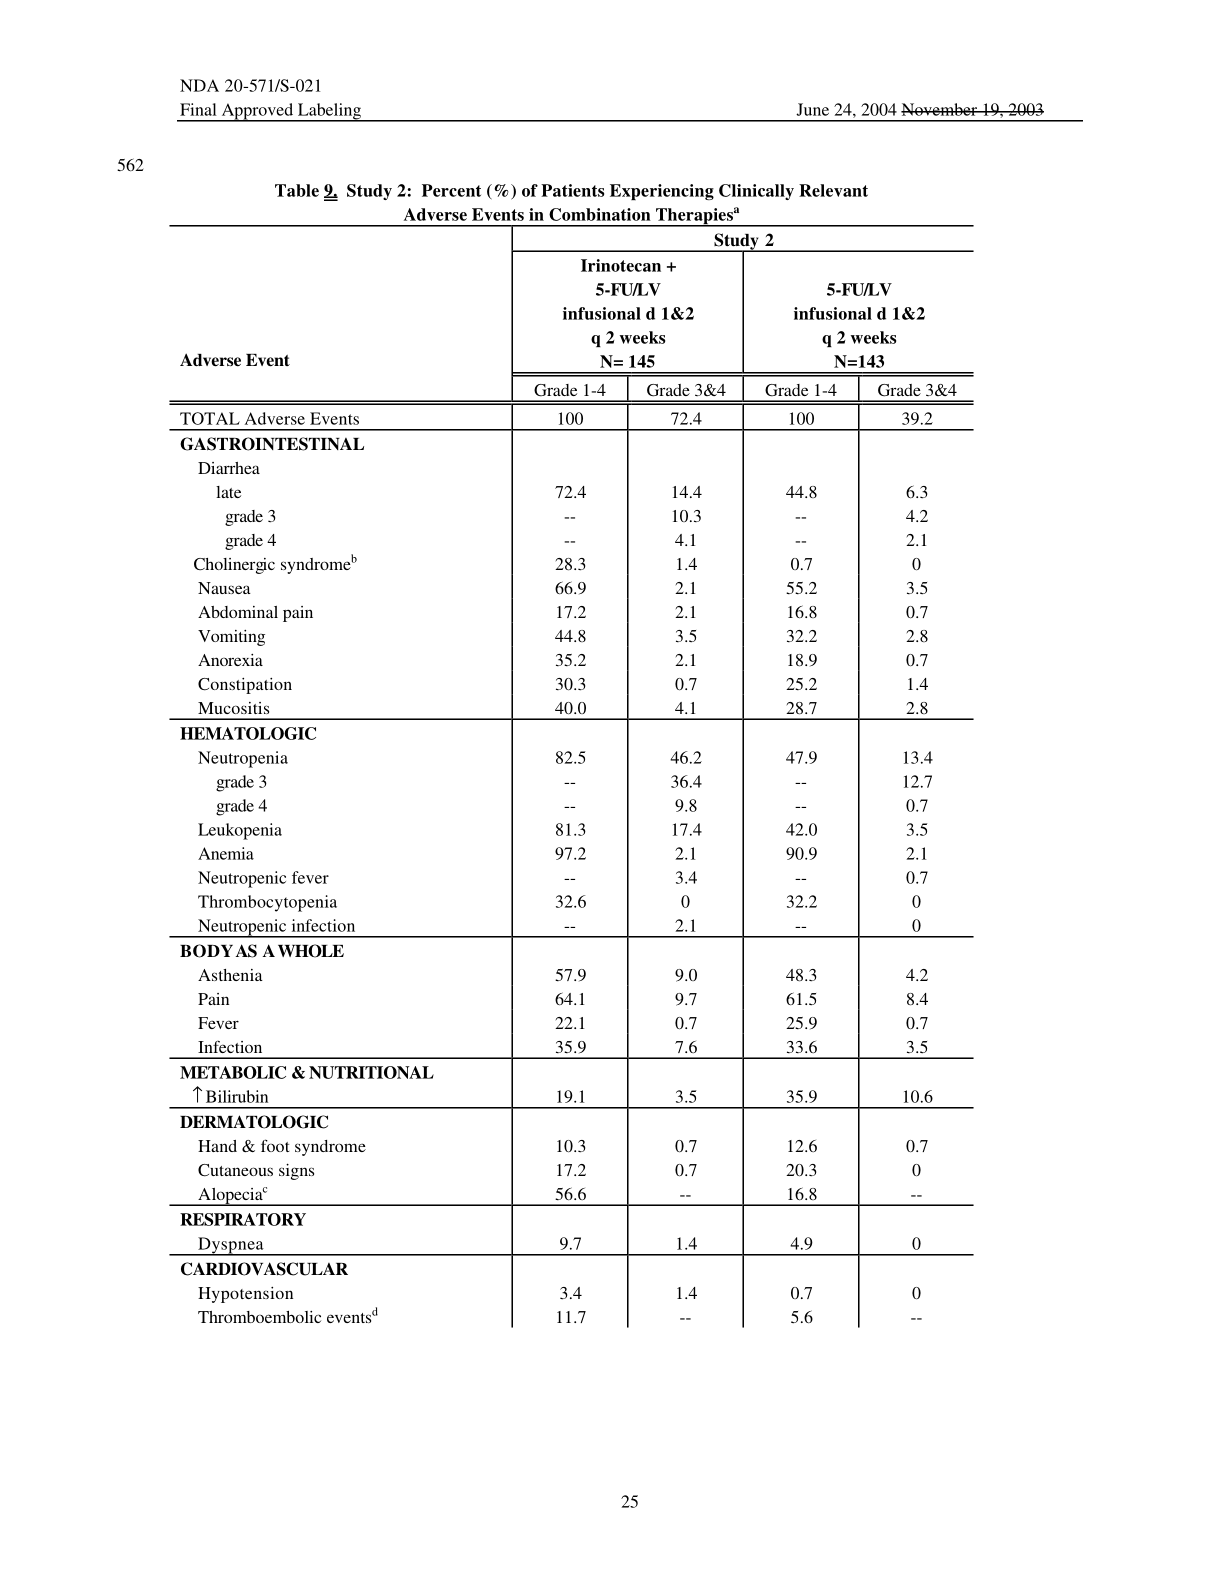partial_lined_merged_cells: (167, 222, 978, 1337)
